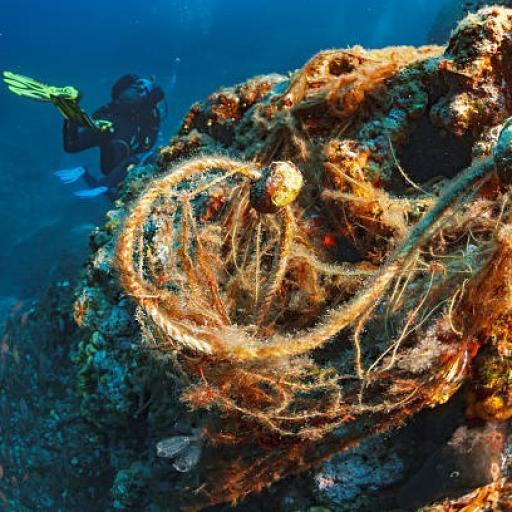net: (105, 150, 512, 488)
